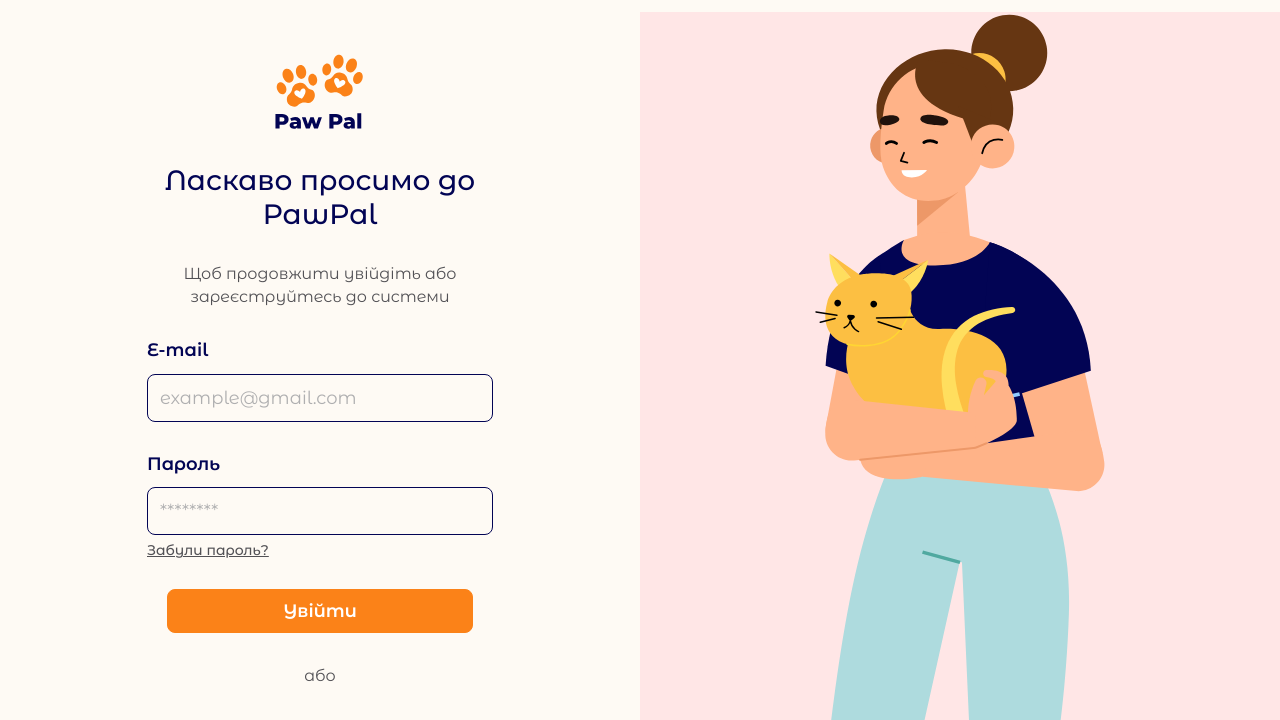
Scenario: SignUpForm Login › should show validation error for short password
// Enter valid email but short password
In the field named "email": {"x": 320, "y": 398} [147,374,493,422], type "test@example.com"
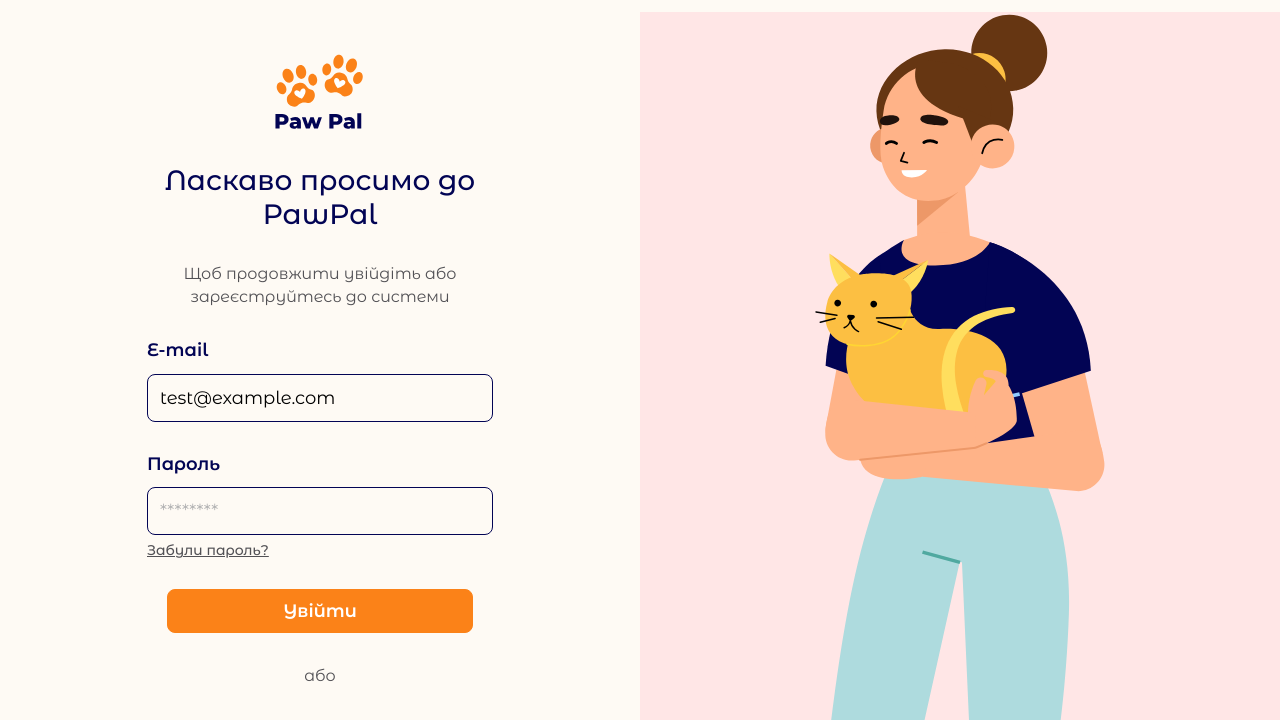
In the password field named "password": {"x": 320, "y": 511} [147,487,493,535], type "123"
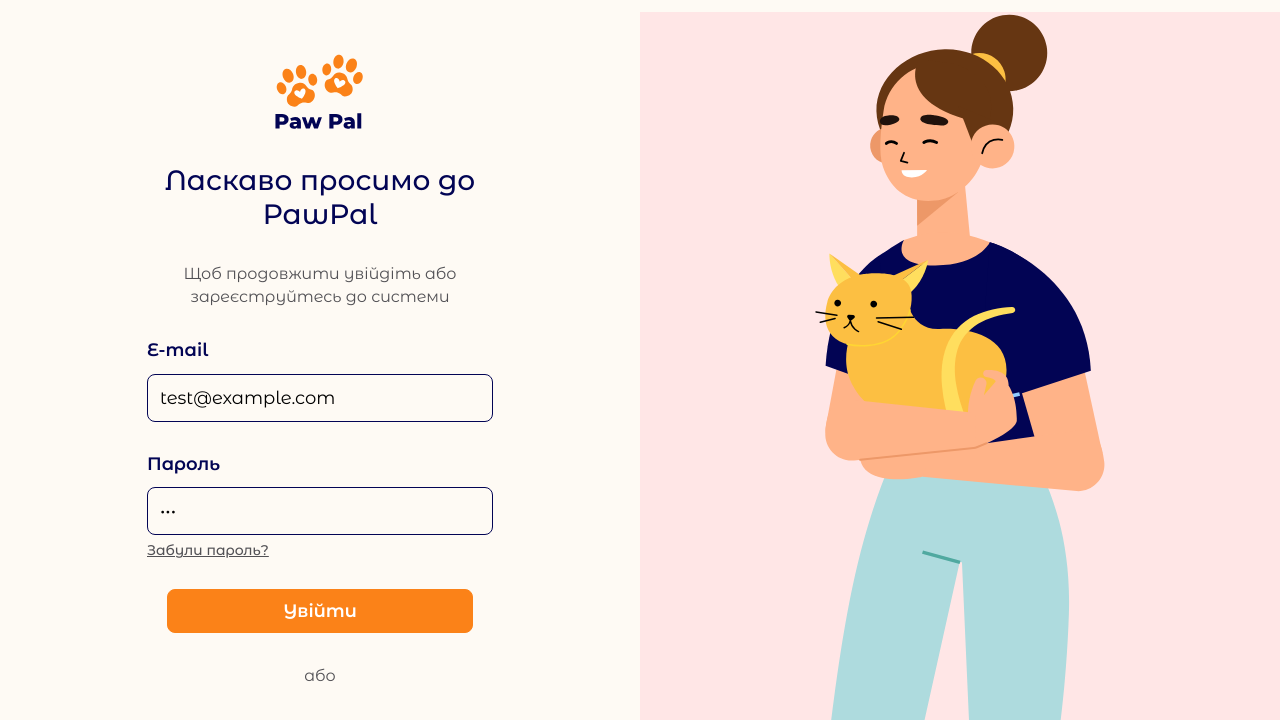
Click the button "Увійти": {"x": 320, "y": 611} [167,589,473,633]
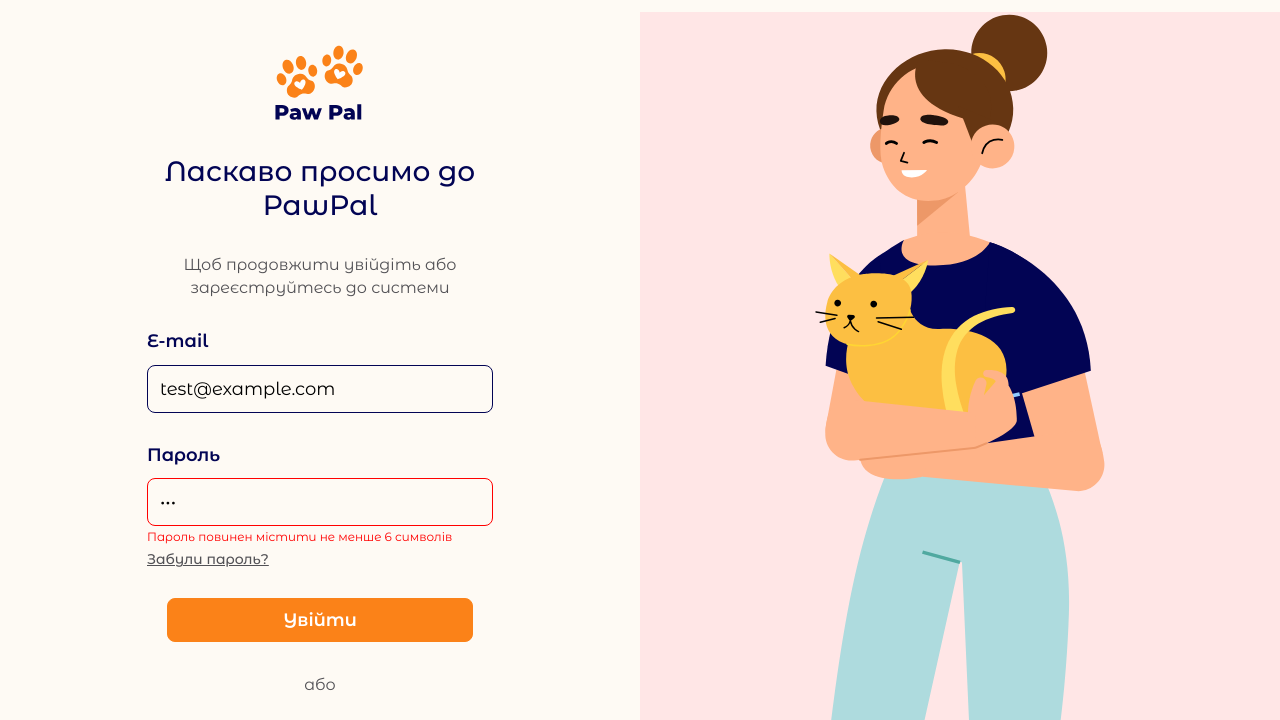
Expected: the text "Пароль повинен містити не менше 6 символів" is shown, [147,529,493,544]
